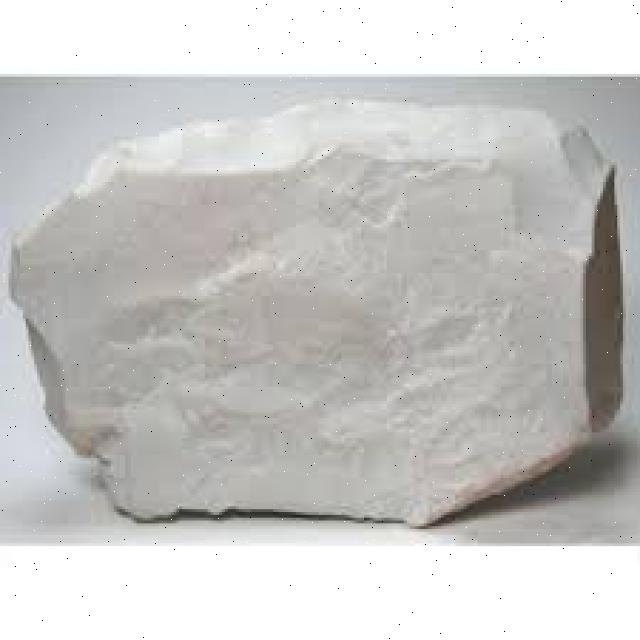Metamorphic: (8, 80, 634, 526)
